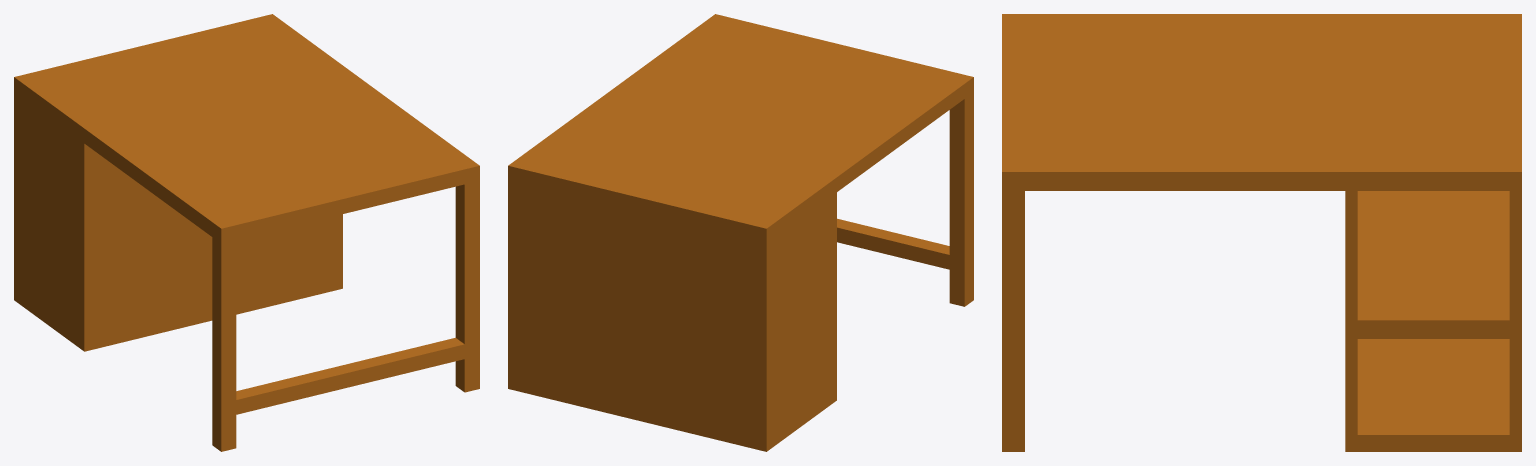
Rendered from Meja.fbx.
3 renders of one model, left to right at view 1: azimuth 30°, elevation 25°; view 2: azimuth 150°, elevation 25°; view 3: azimuth 270°, elevation 25°, orthographic. The views are drawn at different scales.
Visible parts, largest first — view 1: Cube.003; view 2: Cube.003; view 3: Cube.003.
Boxes of the visible parts, x1,y1,x2,y2 form: Cube.003: (14,14,479,451); Cube.003: (508,14,973,451); Cube.003: (1002,14,1521,451).
Bounding box in the file's own units: 90 × 74.26 × 125.
